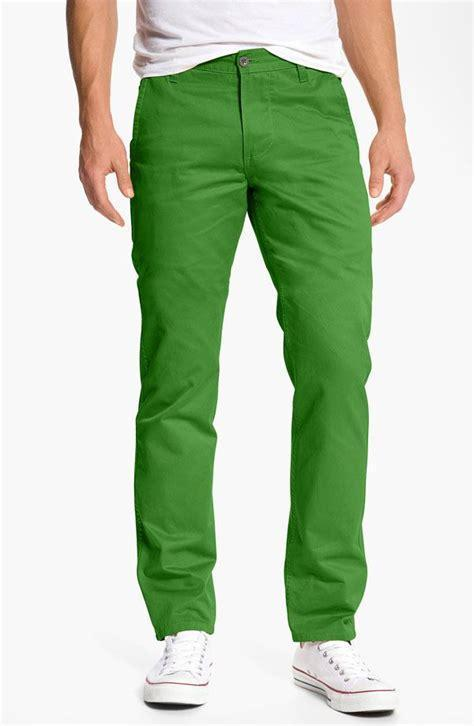pants: (132, 50, 374, 640)
